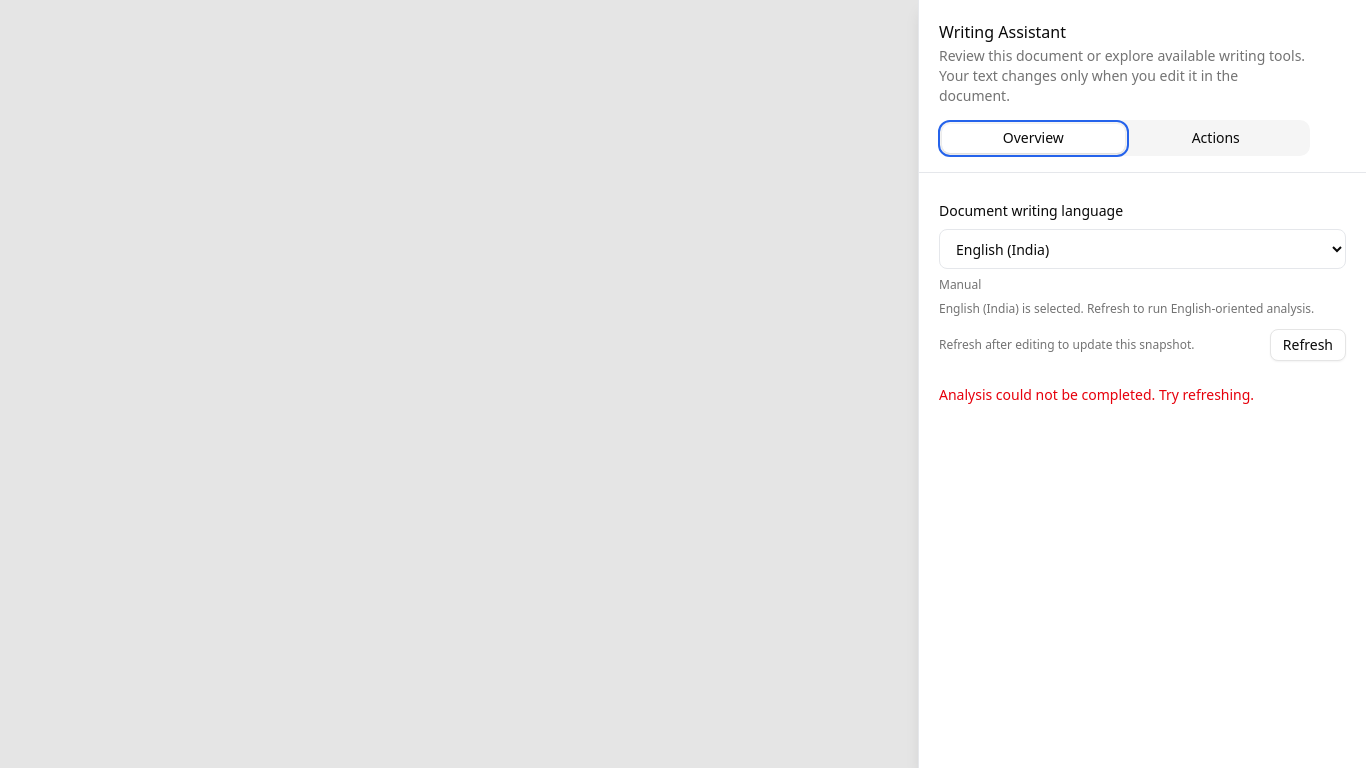
WritingAssistantPanel › shows an error after worker initialization failure and recovers on refresh
The image size is (1366, 768).
Expected: the message shows "Analysis could not be completed", left=939, top=385, right=1254, bottom=404
Click the button "Refresh" at (1308, 345), box left=1270, top=329, right=1346, bottom=361
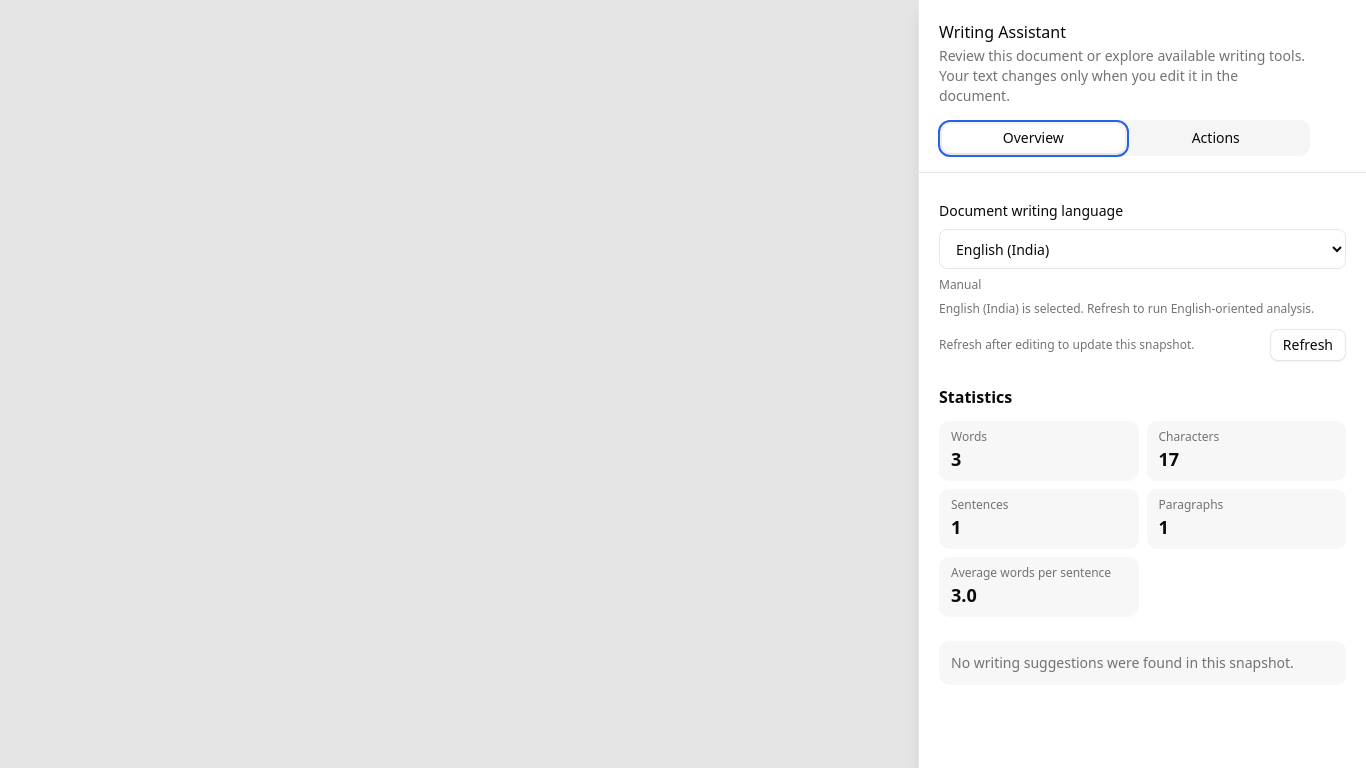
Now the text "No writing suggestions were found in this snapshot." is shown, box left=939, top=641, right=1346, bottom=685
